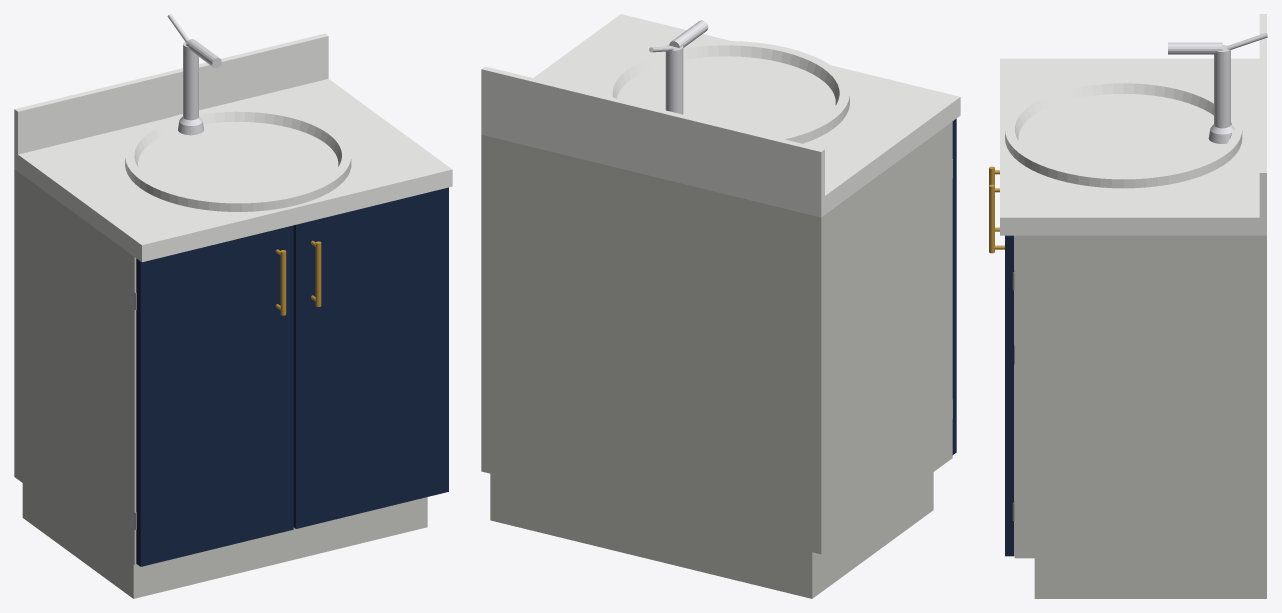
Rendered from 041_bathroom_vanity_with_basin.glb.
3 renders of one model, left to right at view 1: azimuth 30°, elevation 25°; view 2: azimuth 150°, elevation 25°; view 3: azimuth 270°, elevation 25°, orthographic. The views are drawn at different scales.
Visible parts, largest first — view 1: 006_door_1_panel, 012_door_2_panel, 018_ceramic_vanity_top, 001_carcass_side_l, 024_backsplash, 000_toe_kick, 019_basin_bowl, 021_faucet_body; view 2: 004_carcass_back_panel, 001_carcass_side_l, 018_ceramic_vanity_top, 000_toe_kick, 024_backsplash, 019_basin_bowl, 002_carcass_side_r, 006_door_1_panel, 021_faucet_body; view 3: 002_carcass_side_r, 018_ceramic_vanity_top, 000_toe_kick, 019_basin_bowl, 012_door_2_panel, 021_faucet_body, 024_backsplash, 022_faucet_spout, 017_door_2_pull_bar.
Part boxes in pixels (x1=…): 006_door_1_panel: x1=136, y1=225, x2=293, y2=566; 012_door_2_panel: x1=293, y1=187, x2=448, y2=528; 018_ceramic_vanity_top: x1=14, y1=79, x2=452, y2=262; 001_carcass_side_l: x1=14, y1=169, x2=136, y2=564; 024_backsplash: x1=14, y1=33, x2=328, y2=154; 000_toe_kick: x1=22, y1=483, x2=427, y2=598; 019_basin_bowl: x1=125, y1=107, x2=351, y2=211; 021_faucet_body: x1=178, y1=42, x2=204, y2=135; 004_carcass_back_panel: x1=489, y1=137, x2=812, y2=552; 001_carcass_side_l: x1=813, y1=121, x2=952, y2=554; 018_ceramic_vanity_top: x1=481, y1=14, x2=960, y2=217; 000_toe_kick: x1=490, y1=472, x2=933, y2=598; 024_backsplash: x1=481, y1=66, x2=824, y2=198; 019_basin_bowl: x1=602, y1=41, x2=849, y2=143; 002_carcass_side_r: x1=481, y1=134, x2=489, y2=473; 006_door_1_panel: x1=952, y1=118, x2=956, y2=454; 021_faucet_body: x1=665, y1=44, x2=683, y2=114; 002_carcass_side_r: x1=1014, y1=235, x2=1266, y2=558; 018_ceramic_vanity_top: x1=1000, y1=58, x2=1266, y2=235; 000_toe_kick: x1=1034, y1=558, x2=1266, y2=598; 019_basin_bowl: x1=1005, y1=79, x2=1242, y2=188; 012_door_2_panel: x1=1005, y1=235, x2=1014, y2=556; 021_faucet_body: x1=1208, y1=45, x2=1234, y2=143; 024_backsplash: x1=1259, y1=14, x2=1266, y2=217; 022_faucet_spout: x1=1168, y1=42, x2=1222, y2=54; 017_door_2_pull_bar: x1=989, y1=184, x2=994, y2=253.
Bounding box in the file's own units: 0.76 × 1.09 × 0.5638.
